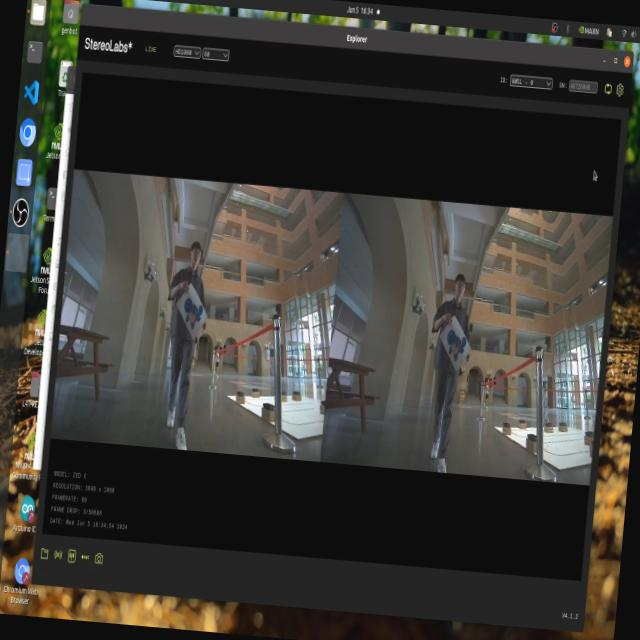blue: (439, 328, 474, 369), (184, 298, 207, 332)
